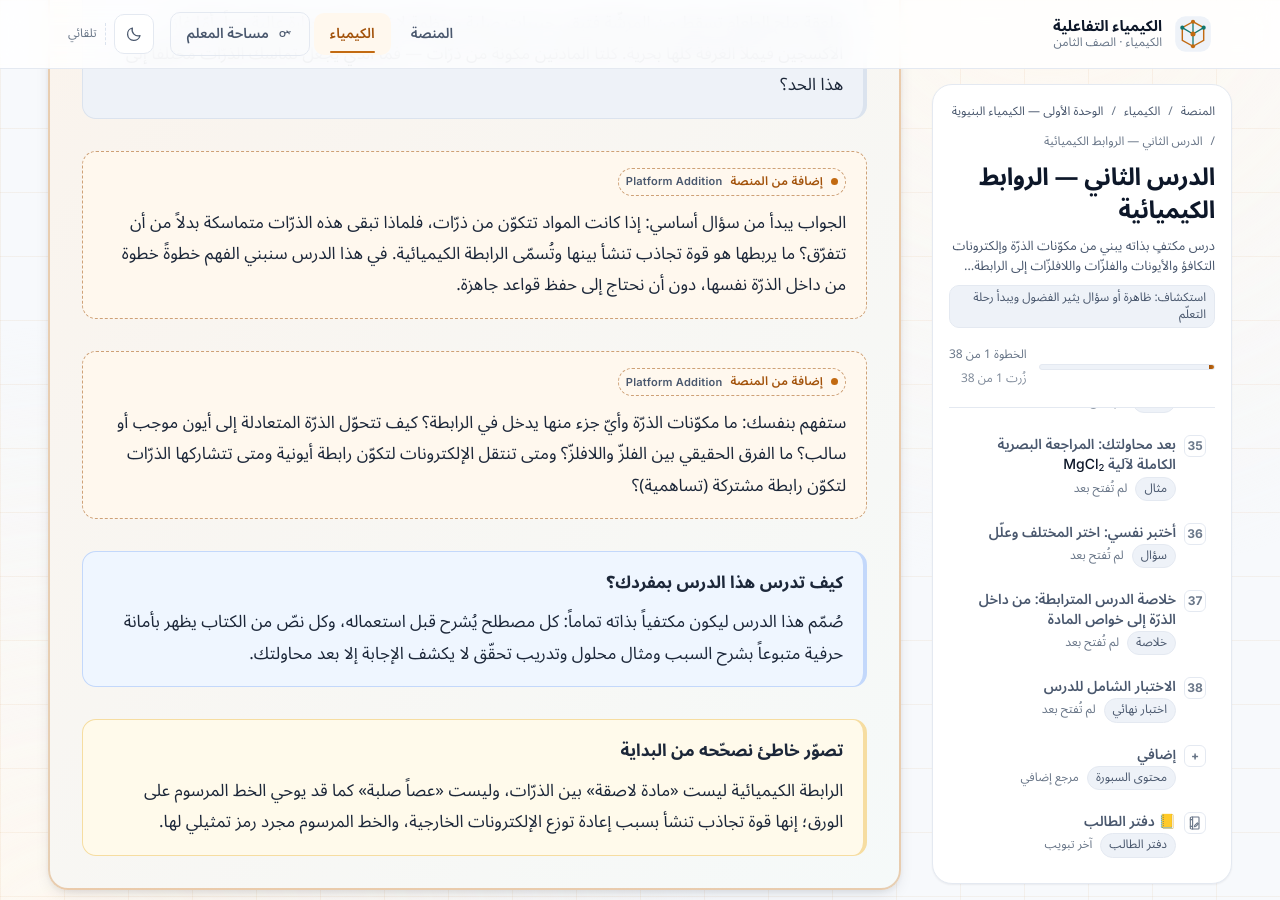
Scenario: student notebook — lesson integration › is the last navigation tab after the 38 existing teaching steps
(page scrolled)
Check: the heading "الدرس الثاني — الروابط الكيميائية" is shown, box [949,161,1215,228]
What coordinates should you click on to do the following:
click the button "📒 دفتر الطالب دفتر الطالب آخر تبويب"
I would click on:
 (1082, 835)
Its box is [949,803,1215,867].
(page scrolled)
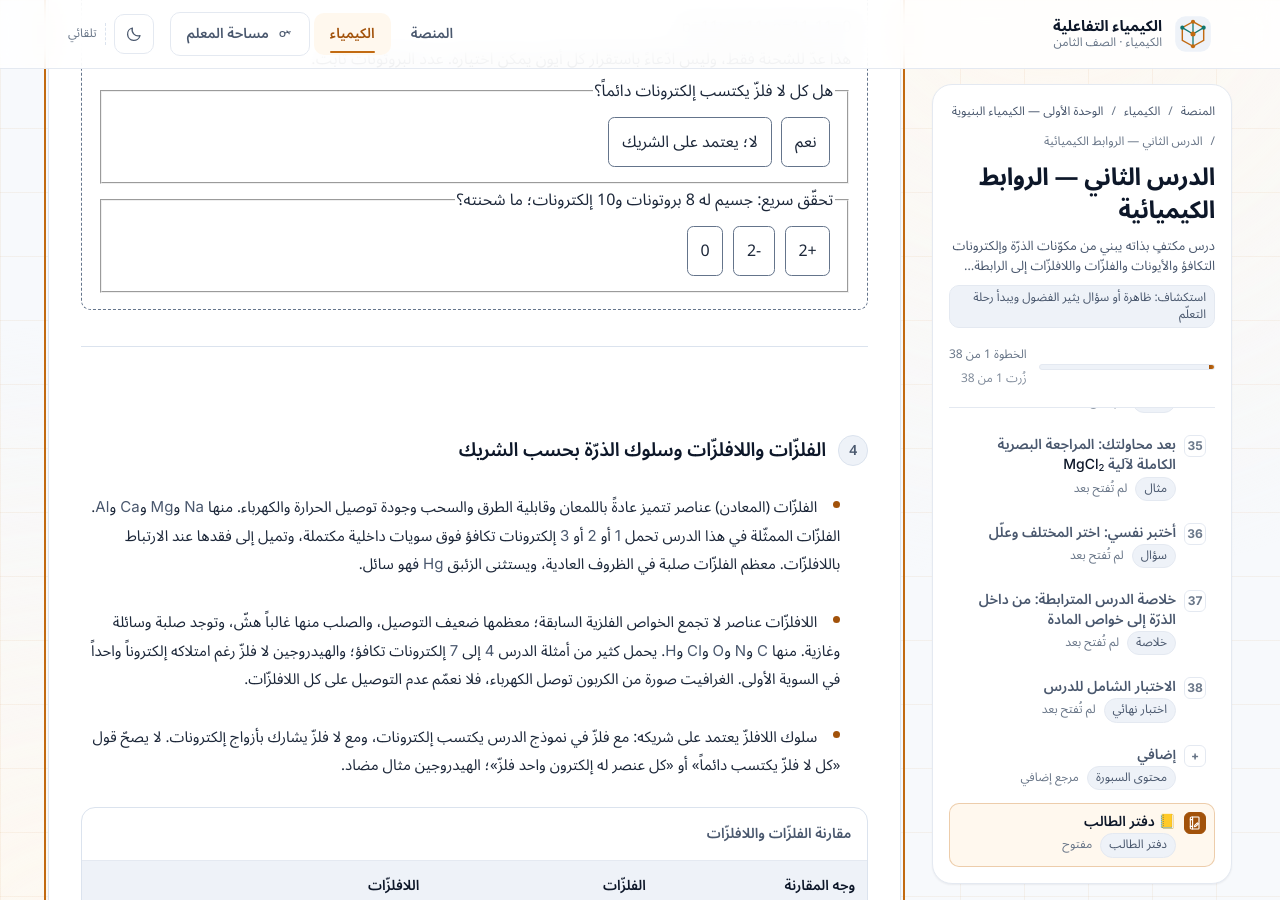
Check: the heading "4 الفلزّات واللافلزّات وسلوك الذرّة بحسب الشريك" is shown, box [459,430,868,470]
